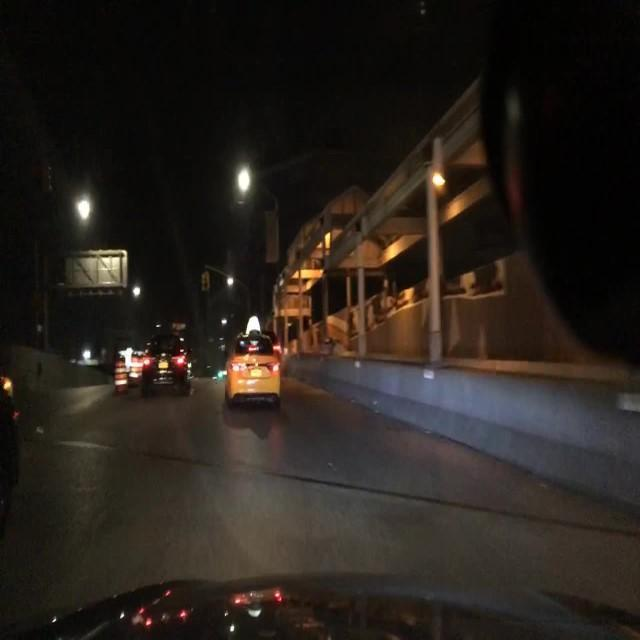normal: (226, 333, 284, 406), (140, 334, 196, 397)
